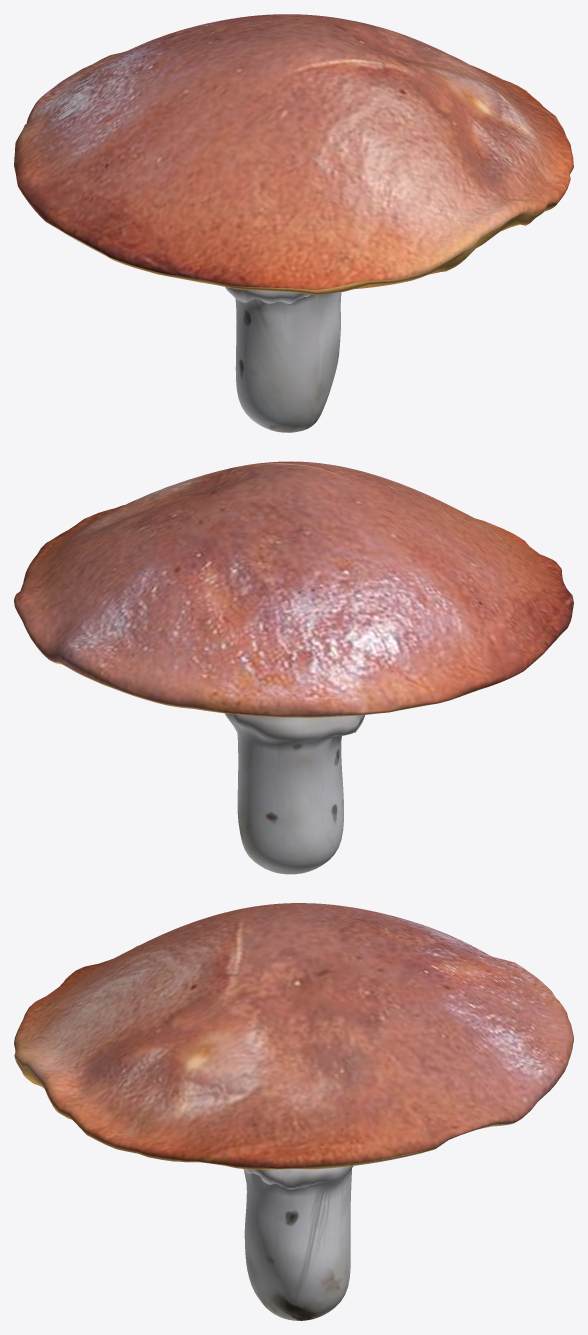
Rendered from SENE_41.fbx.
3 views of the same model, one above another, from view 1: azimuth 30°, elevation 25°; view 2: azimuth 150°, elevation 25°; view 3: azimuth 270°, elevation 25° (orthographic).
Visible parts, largest first — view 1: SENE_41; view 2: SENE_41; view 3: SENE_41.
Boxes of the visible parts, x1,y1,x2,y2 form: SENE_41: (14,14,573,432); SENE_41: (14,461,573,874); SENE_41: (14,903,573,1320).
Bounding box in the file's own units: 83.8 × 64.36 × 83.64.
1 material, 1 textured.
